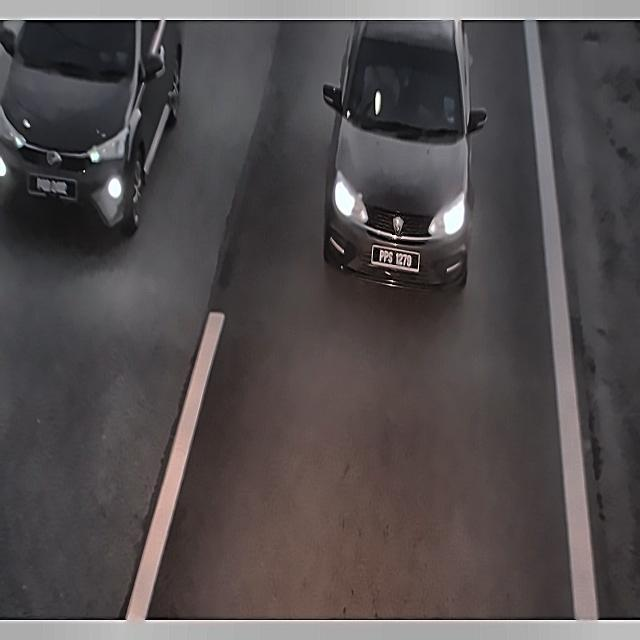car: (369, 240, 423, 281), (24, 169, 78, 201)
